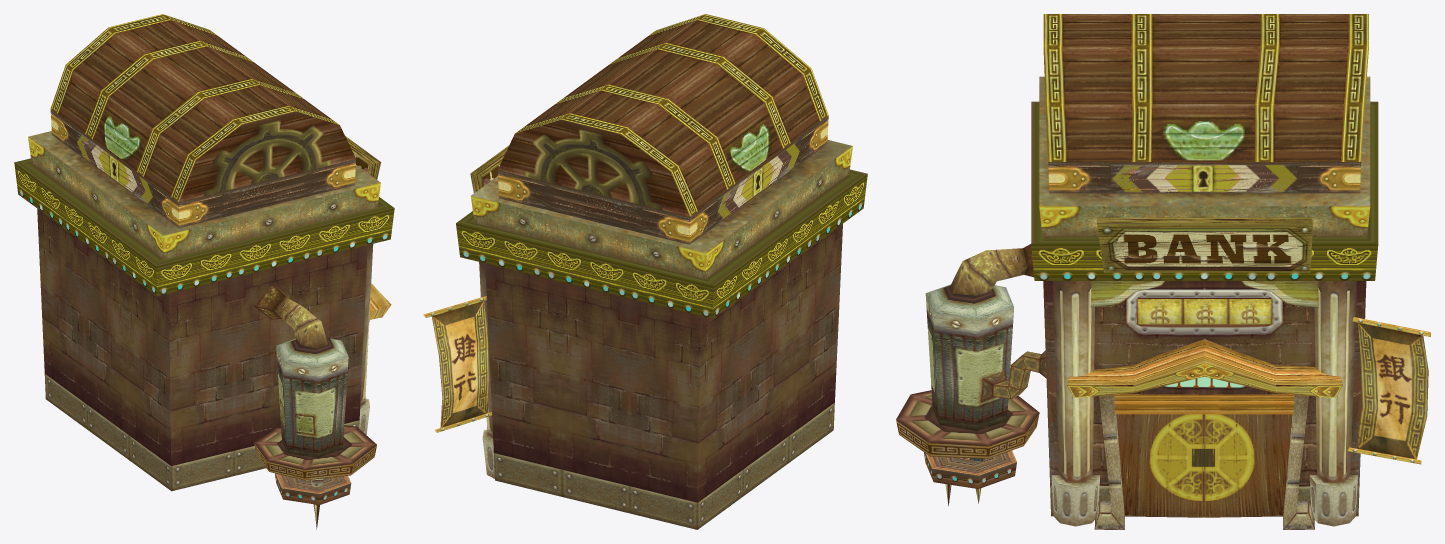
3 renders of one model, left to right at view 1: azimuth 30°, elevation 25°; view 2: azimuth 150°, elevation 25°; view 3: azimuth 270°, elevation 25°, orthographic. The views are drawn at different scales.
Parts seen in each view (by area): view 1: objpolySurface35; view 2: objpolySurface35; view 3: objpolySurface35.
Part boxes in pixels (box(x1,y1,x2,y2)): objpolySurface35: box(14, 14, 394, 529); objpolySurface35: box(423, 14, 867, 529); objpolySurface35: box(896, 14, 1430, 529).
Bounding box in the file's own units: 349 × 477 × 491.
1 material, 1 textured.
